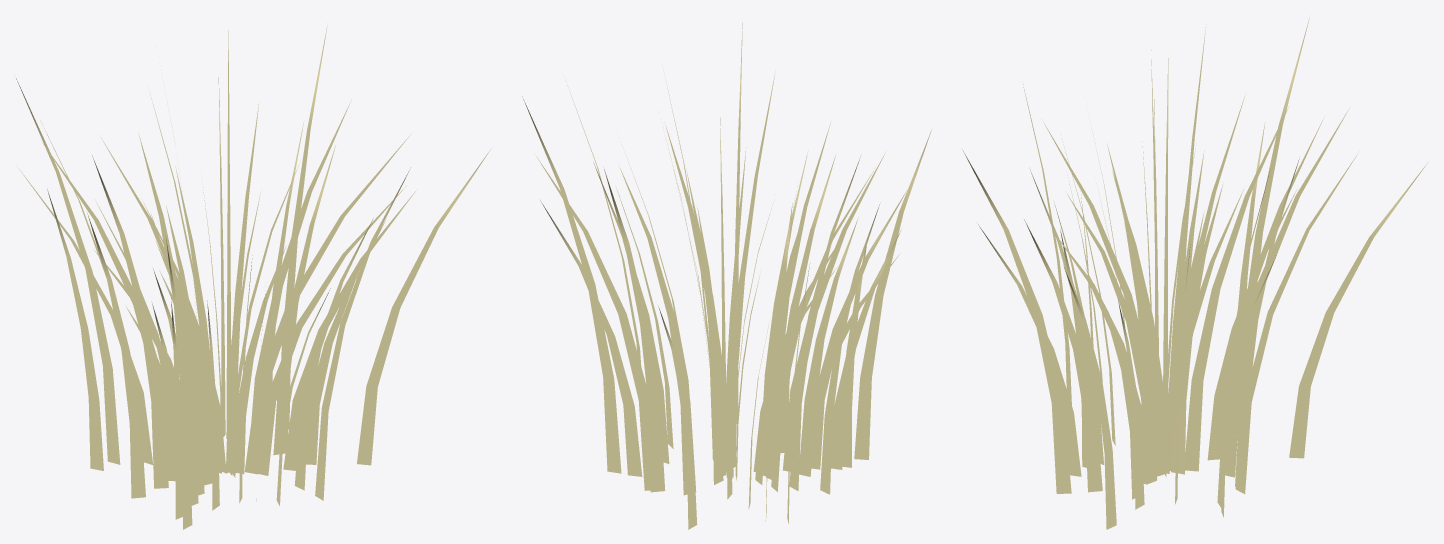
The model's file is Pasto_B.fbx.
The picture shows the model from 3 angles, left to right: view 1: azimuth 30°, elevation 25°; view 2: azimuth 150°, elevation 25°; view 3: azimuth 270°, elevation 25°; orthographic projection.
Parts seen in each view (by area): view 1: Pasto_B; view 2: Pasto_B; view 3: Pasto_B.
Part boxes in pixels (x1,y1,x2,y2): Pasto_B: [16, 26, 490, 529]; Pasto_B: [522, 22, 931, 529]; Pasto_B: [962, 18, 1427, 529].
Bounding box in the file's own units: 0.8944 × 0.8495 × 0.9299.
